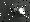person: (15, 6, 25, 18)
